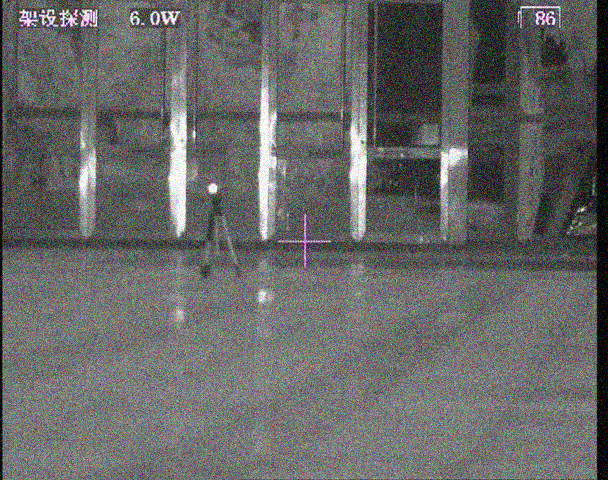my: (207, 182, 218, 195)
